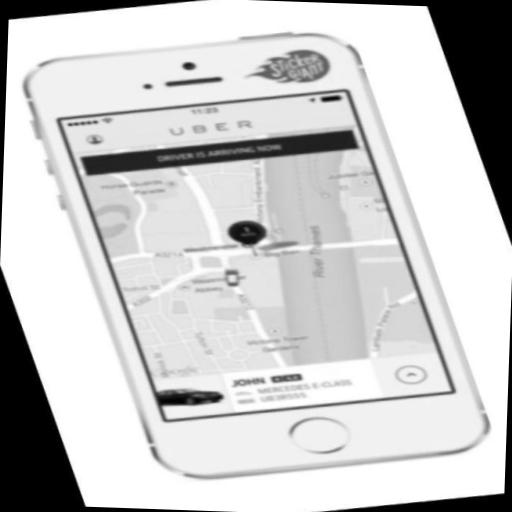phone: (22, 28, 495, 485)
